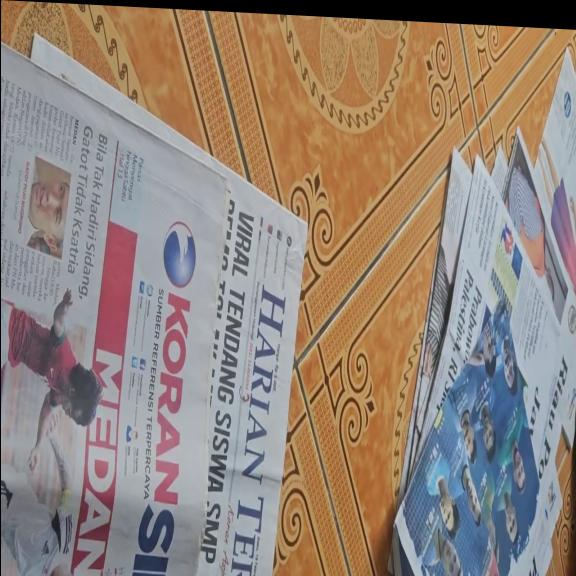Kertas: (0, 180, 262, 576), (449, 150, 571, 576)
